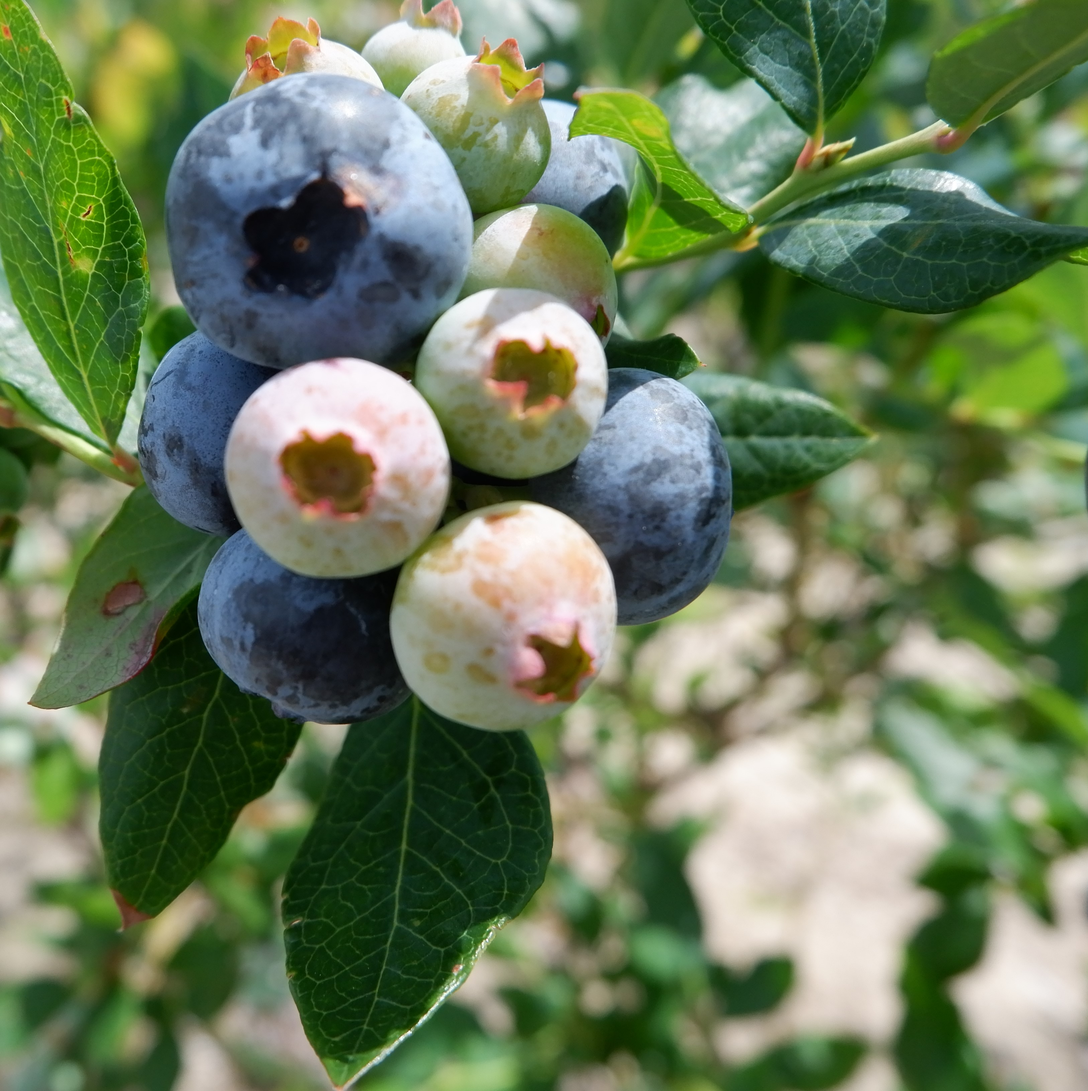Immature: (396, 507, 611, 732), (225, 362, 446, 573), (421, 293, 601, 475), (403, 36, 549, 211), (466, 205, 616, 332), (229, 15, 386, 99), (364, 21, 462, 87)
Mature: (170, 79, 465, 363), (521, 374, 732, 621), (200, 536, 407, 724), (139, 333, 274, 529), (507, 99, 631, 261)
